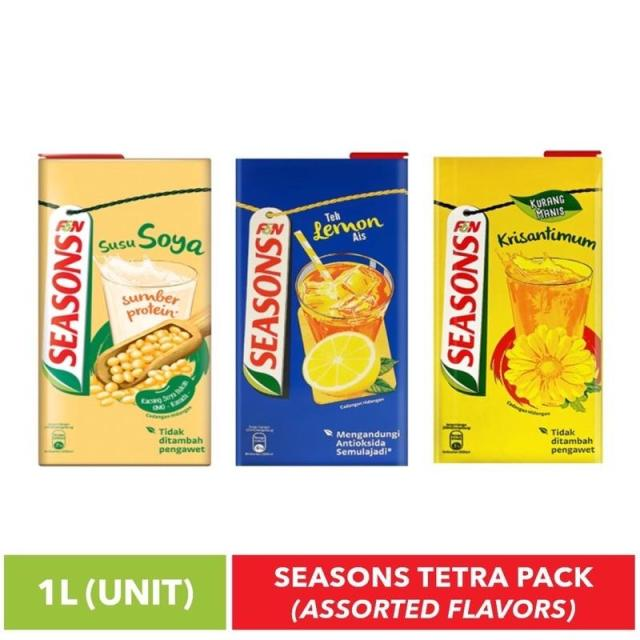drink carton: (35, 142, 212, 465), (233, 149, 407, 465), (433, 149, 604, 469)
